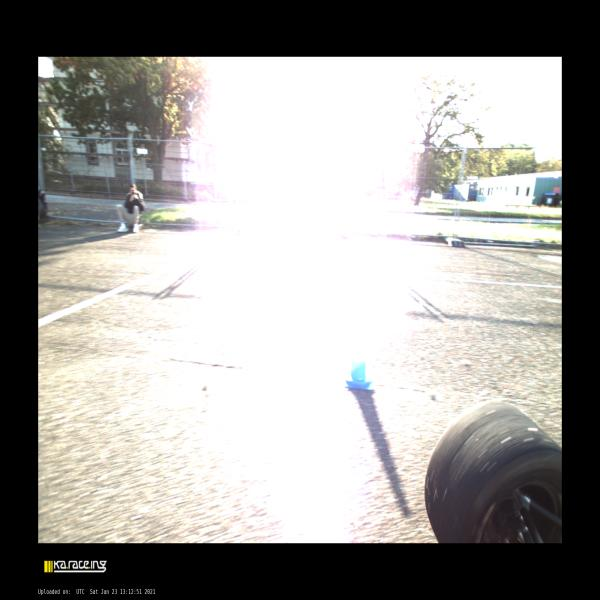blue_cone: (343, 344, 373, 390)
